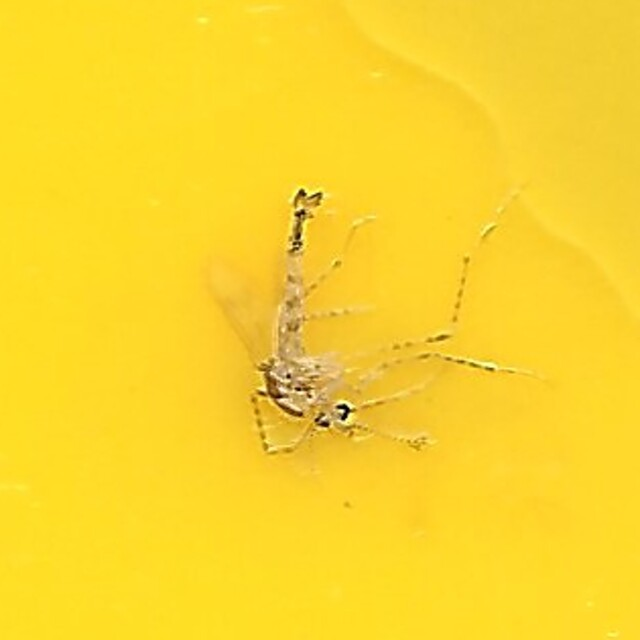Nematocera: (203, 180, 437, 460)
